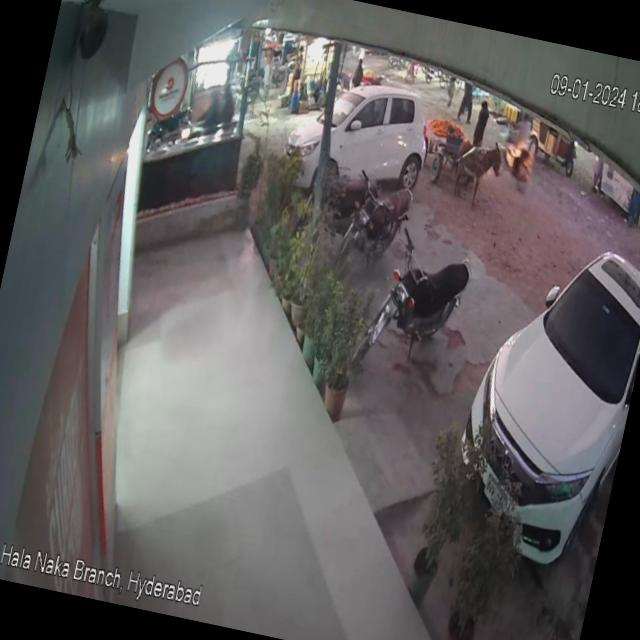Car: (435, 185, 640, 586), (260, 51, 443, 201)
Motorcycle: (348, 211, 488, 391), (340, 168, 422, 270)
